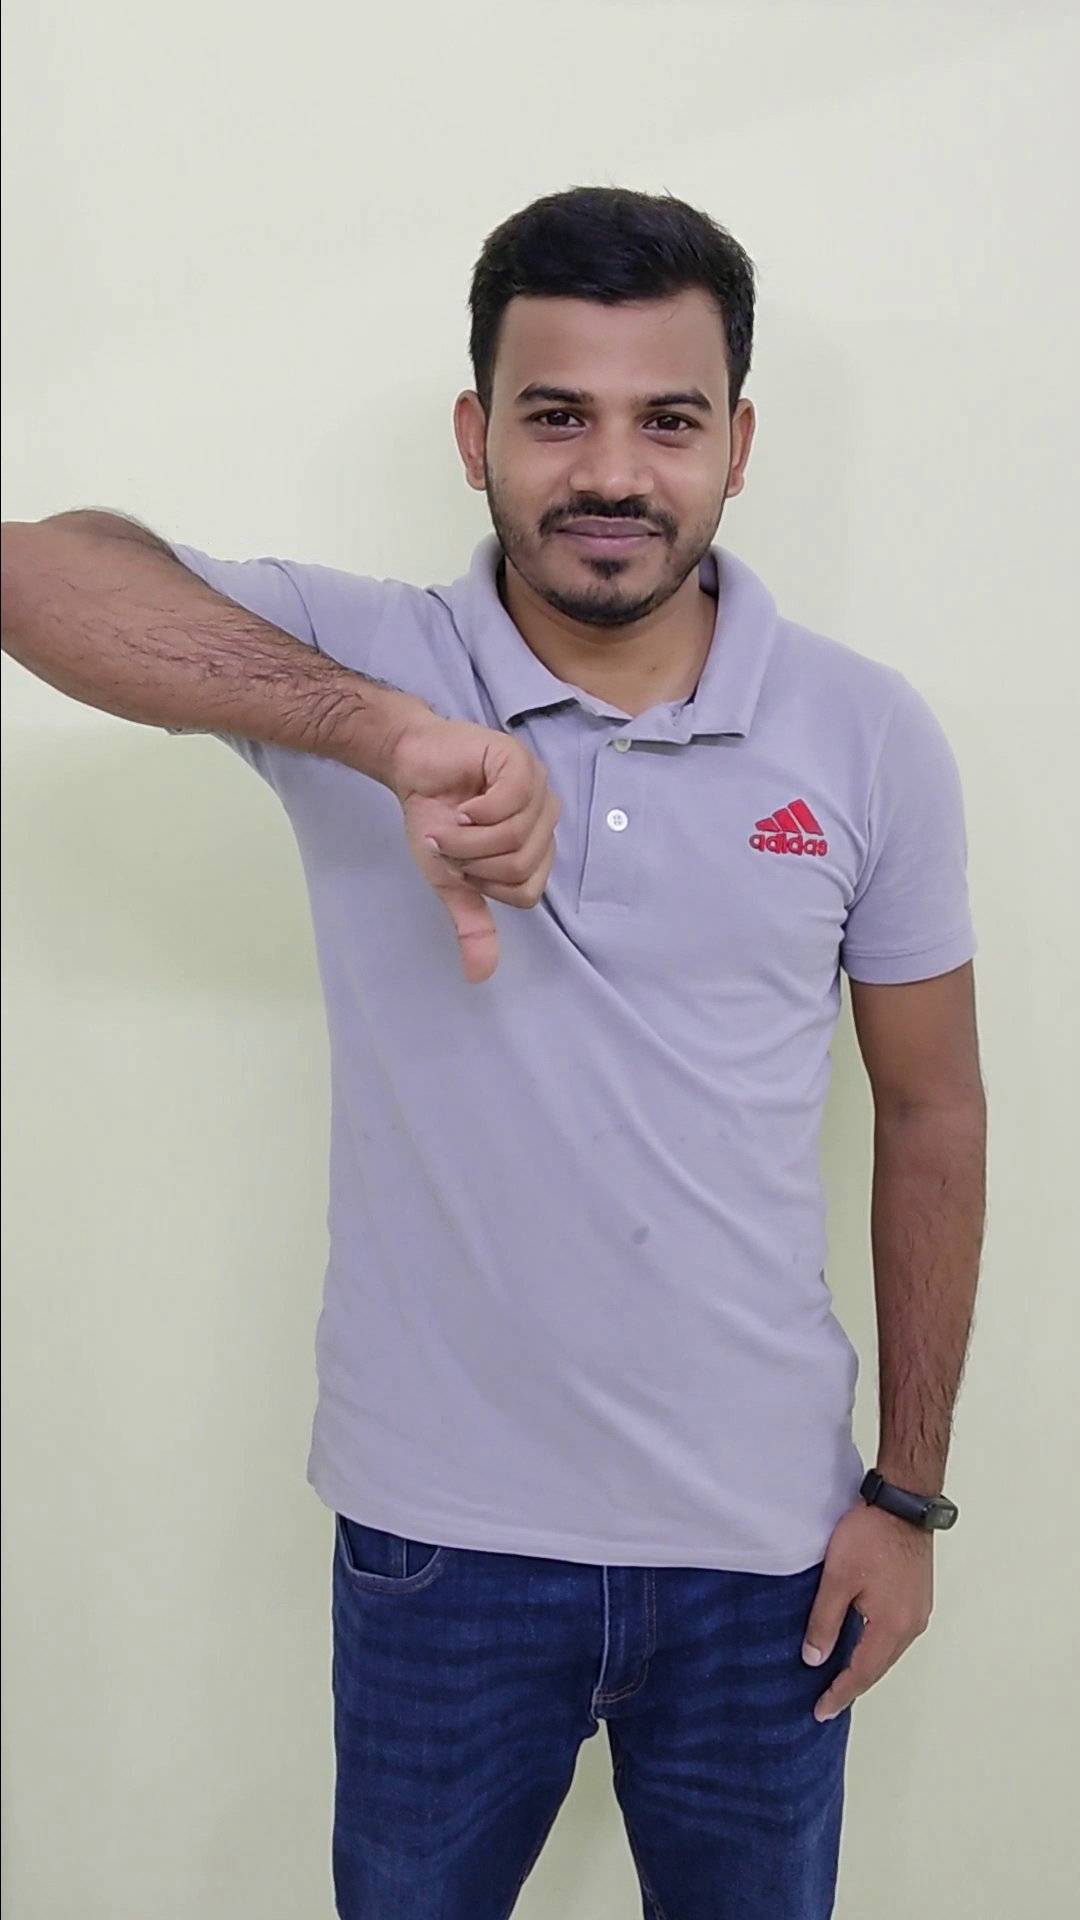Dislike: (386, 688, 580, 1000)
None: (791, 1452, 963, 1734)
